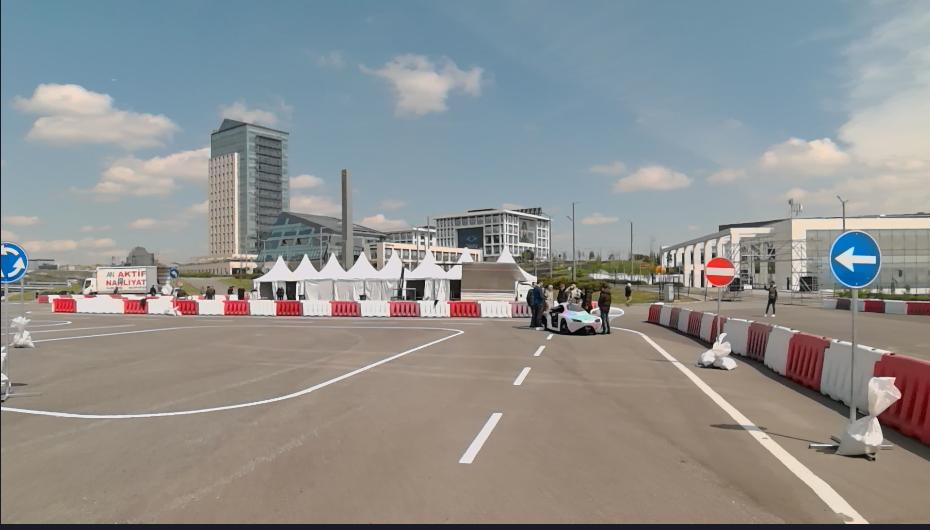nesne: (0, 308, 872, 525), (0, 317, 554, 528), (411, 326, 864, 523), (614, 327, 866, 522), (1, 326, 466, 420), (722, 313, 845, 408), (813, 373, 901, 467), (176, 299, 531, 316), (871, 349, 929, 446), (828, 227, 880, 288), (459, 261, 535, 299), (786, 330, 828, 392), (82, 265, 172, 293), (460, 409, 503, 462), (821, 340, 850, 408), (545, 302, 601, 333), (696, 332, 736, 371), (858, 343, 880, 413), (847, 287, 858, 423), (721, 315, 752, 357), (766, 324, 791, 376), (747, 318, 773, 366), (0, 240, 28, 283), (858, 298, 928, 314), (526, 276, 545, 331), (7, 317, 37, 349), (4, 283, 12, 396), (564, 278, 592, 309), (705, 257, 736, 285), (597, 280, 613, 332), (77, 297, 122, 312), (509, 362, 535, 385), (0, 345, 9, 406), (697, 313, 713, 346), (418, 299, 449, 316), (764, 278, 778, 315), (448, 301, 479, 316), (480, 301, 509, 317), (329, 300, 359, 315), (361, 300, 390, 315), (390, 300, 417, 316), (144, 298, 172, 313), (300, 300, 329, 314), (688, 310, 702, 339), (820, 294, 847, 309), (248, 300, 274, 315), (122, 298, 146, 314), (274, 301, 301, 315), (509, 301, 532, 317), (224, 300, 248, 315), (678, 307, 690, 336), (714, 284, 720, 340), (52, 298, 77, 311), (197, 302, 224, 314), (906, 300, 929, 314), (646, 304, 661, 324), (622, 279, 633, 306), (667, 306, 679, 330), (657, 305, 670, 327), (883, 300, 906, 312), (556, 279, 568, 301), (545, 282, 554, 310), (178, 301, 197, 313), (864, 300, 883, 312), (19, 277, 24, 315), (204, 283, 215, 300), (532, 343, 547, 355), (274, 281, 283, 300), (834, 298, 847, 310), (146, 282, 157, 296), (822, 297, 835, 308), (168, 268, 181, 278), (173, 278, 176, 312), (226, 283, 236, 293), (169, 306, 180, 314), (237, 286, 245, 296), (39, 295, 49, 302), (858, 300, 864, 311)
